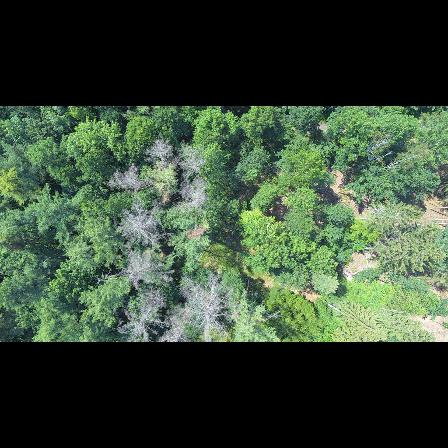Dead: (188, 272, 234, 339), (112, 248, 176, 288), (113, 292, 164, 341), (117, 209, 164, 248), (105, 166, 149, 197), (159, 301, 192, 342), (179, 175, 210, 214), (142, 135, 170, 172), (176, 149, 204, 173)
